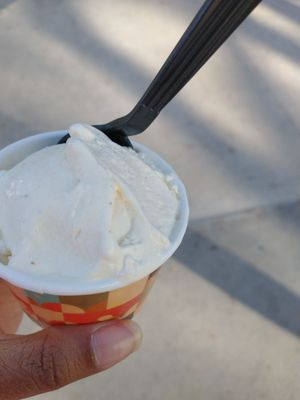pizza: (0, 125, 190, 328)
